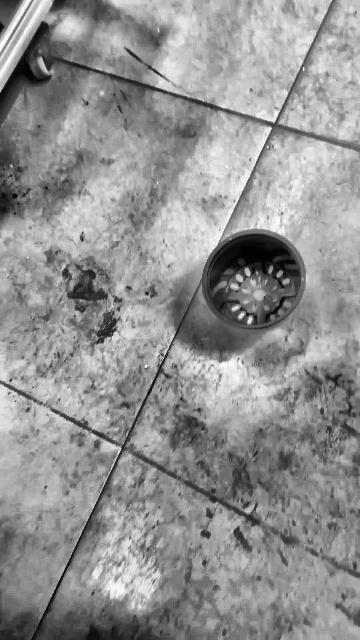pot: (201, 230, 306, 331)
